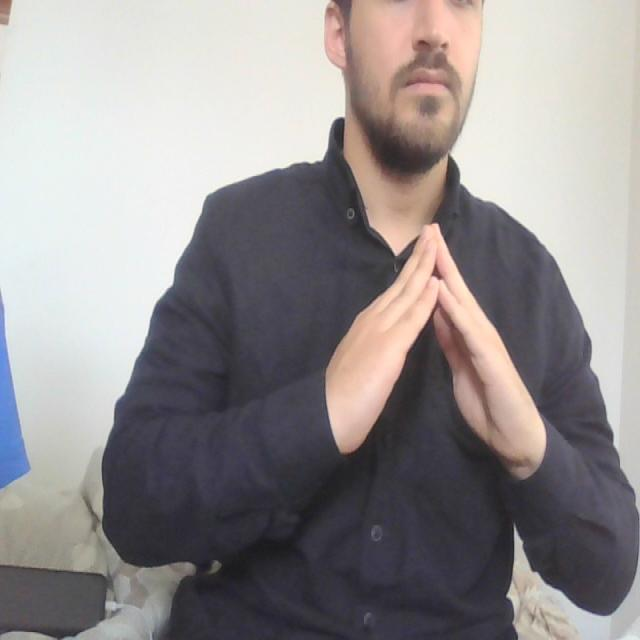Ev: (322, 216, 548, 480)
